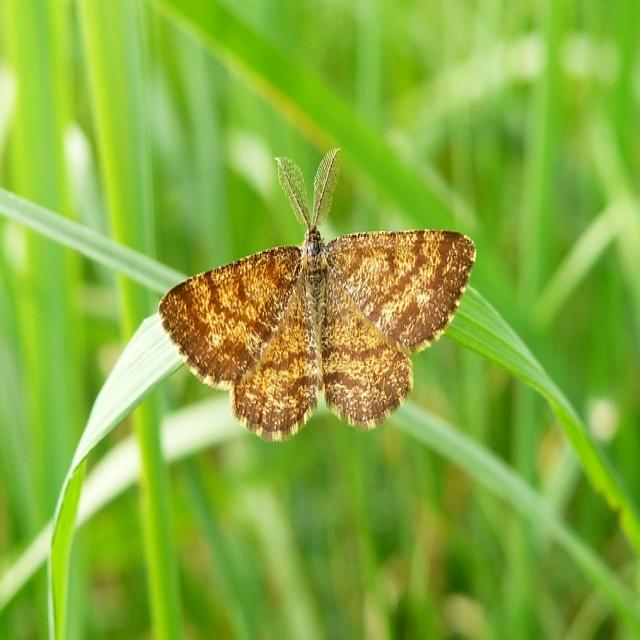butterfly: (155, 153, 477, 441)
